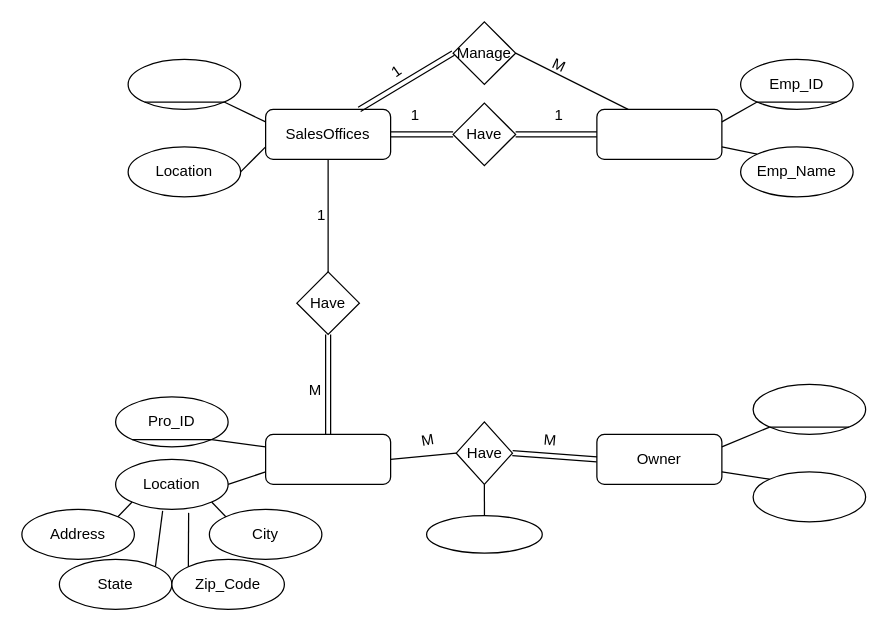
Image size: 888x631. Some labels were removed from this diagram. Here are the shapes that lost their labels. From the top down, the box of each, then its label:
(127, 58, 241, 109): Office Number
(596, 108, 722, 159): Employee
(752, 383, 866, 434): Owner_ID
(264, 433, 391, 484): Property
(752, 471, 866, 522): Owner_Name
(425, 514, 542, 553): Percent Owned
